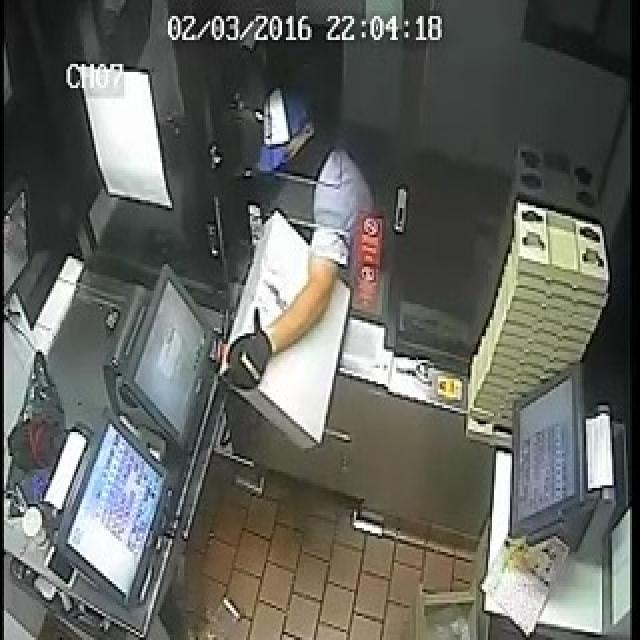thief: (249, 79, 354, 246)
